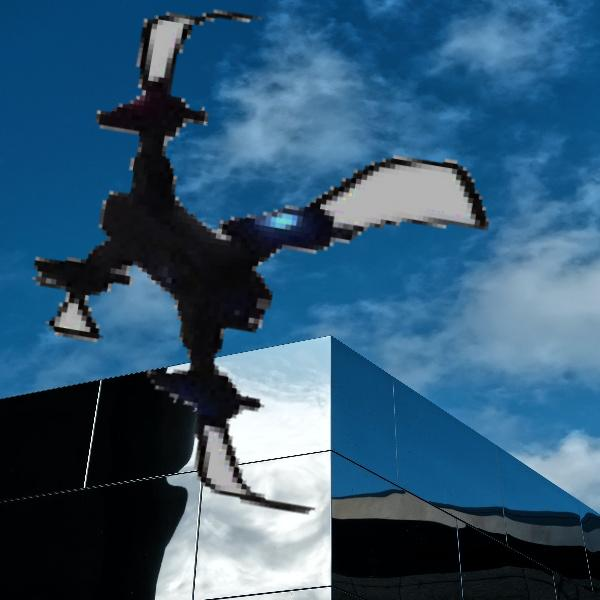drone: (16, 12, 533, 529)
